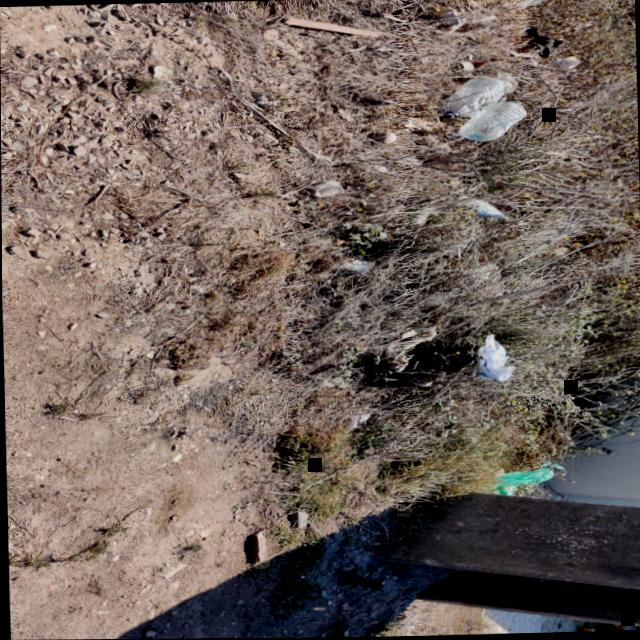Clear plastic bottle: (459, 100, 527, 140), (441, 77, 503, 118)
Disposable plastic cup: (306, 179, 342, 196)
Other plastic: (398, 116, 423, 126)
Plastic film: (489, 461, 563, 494), (384, 325, 435, 372), (485, 72, 517, 94), (556, 56, 581, 68), (521, 0, 545, 8)
Single-use carrier bag: (476, 333, 518, 381)
Unlabeled litter: (455, 192, 509, 219), (526, 26, 564, 58), (335, 258, 375, 272), (405, 209, 433, 224)
